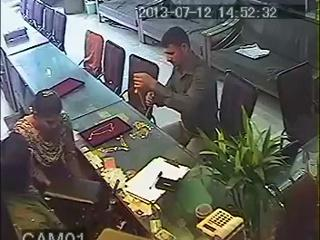Normal: (188, 104, 304, 240), (12, 90, 110, 234), (130, 26, 220, 139), (208, 39, 307, 98), (276, 60, 319, 150), (218, 71, 258, 138), (128, 54, 160, 117)
